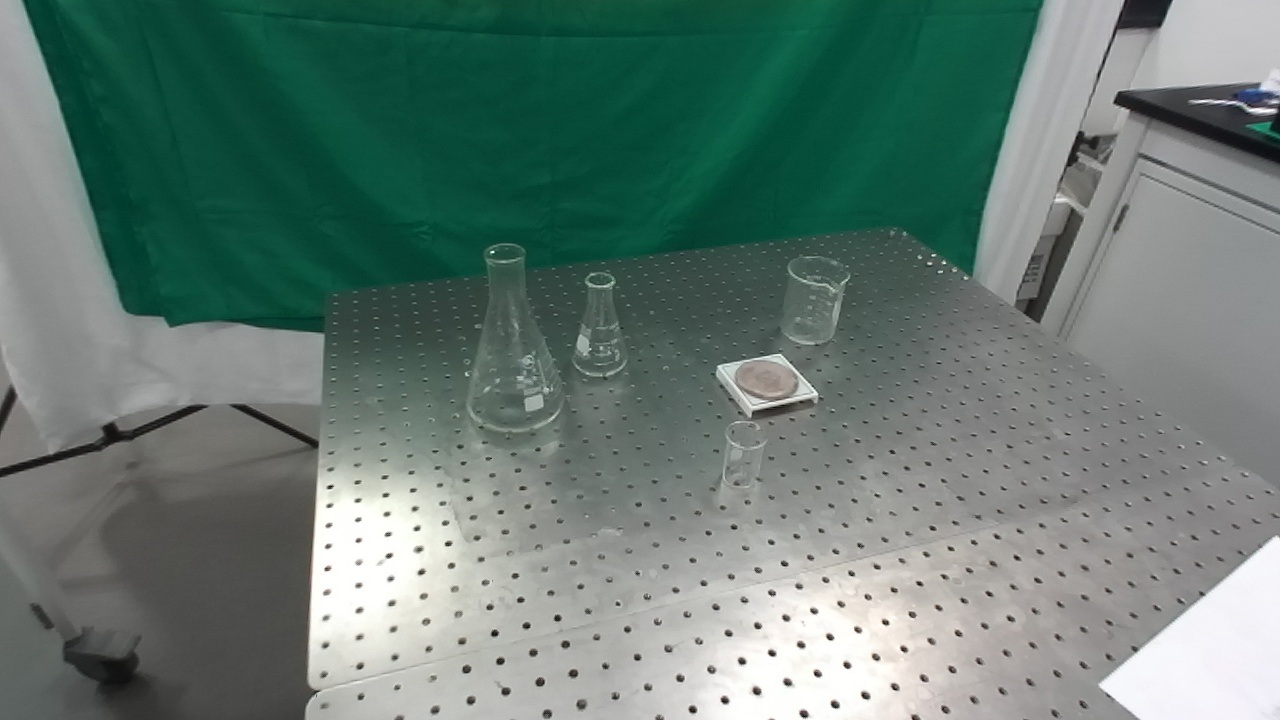glass: (456, 235, 567, 437), (777, 253, 852, 350), (569, 269, 632, 382), (721, 418, 770, 494)
plate: (714, 354, 822, 420)
